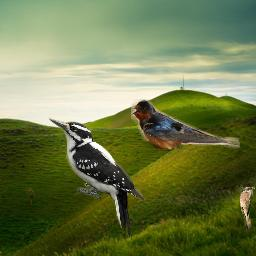Cuckoo: (240, 187, 255, 230)
Swallow: (131, 99, 240, 149)
Woodpecker: (48, 115, 144, 241)
